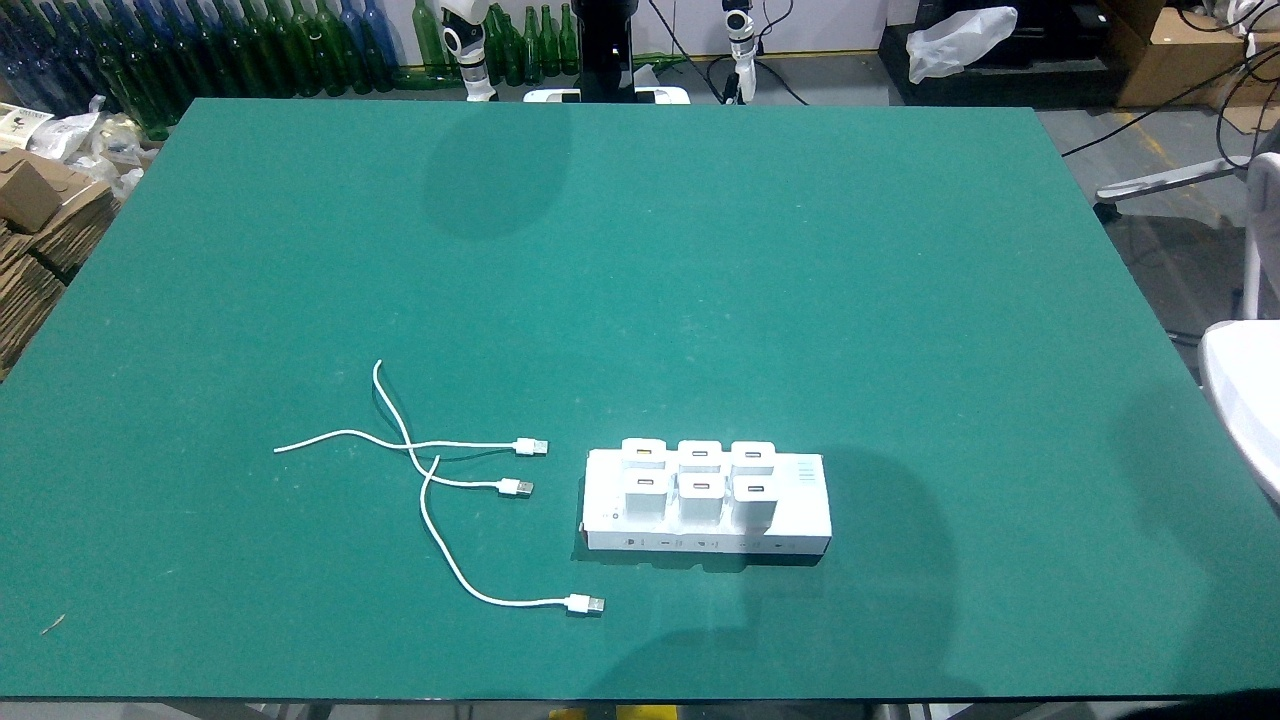usb_a_plug: (549, 591, 607, 615), (496, 437, 549, 455), (487, 477, 533, 497)
